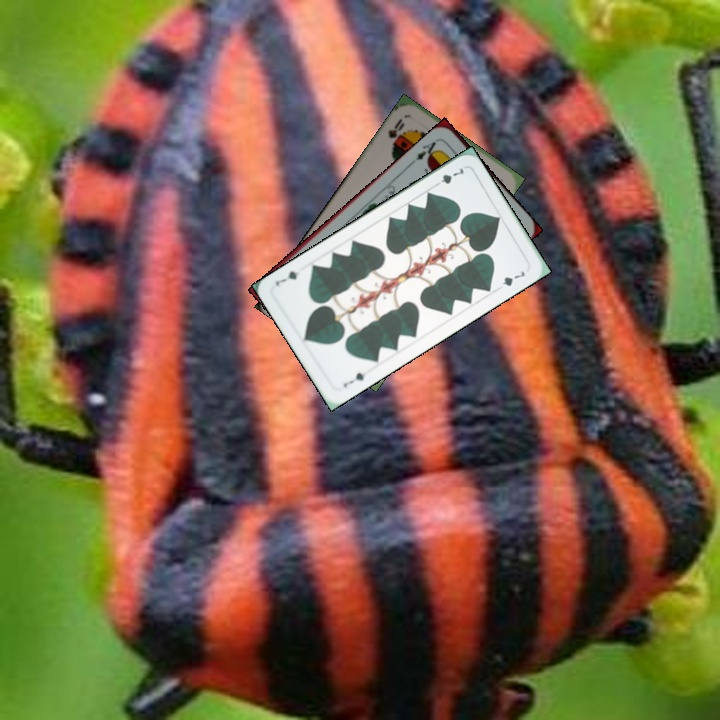EA: (408, 135, 442, 166)
G7: (430, 163, 466, 190), (339, 368, 368, 390)
SO: (384, 114, 407, 148)
